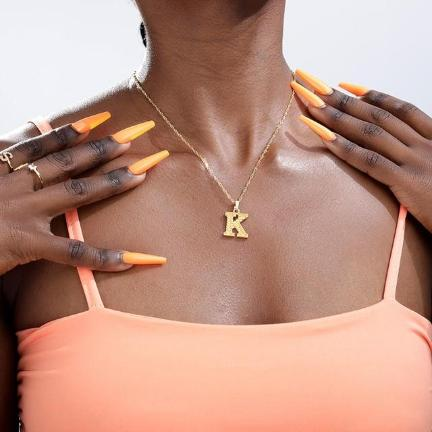Nail: (127, 149, 170, 175), (295, 69, 334, 95), (112, 120, 156, 143), (299, 115, 337, 141), (290, 81, 326, 108), (72, 111, 111, 133), (121, 252, 166, 265), (338, 82, 368, 96)
